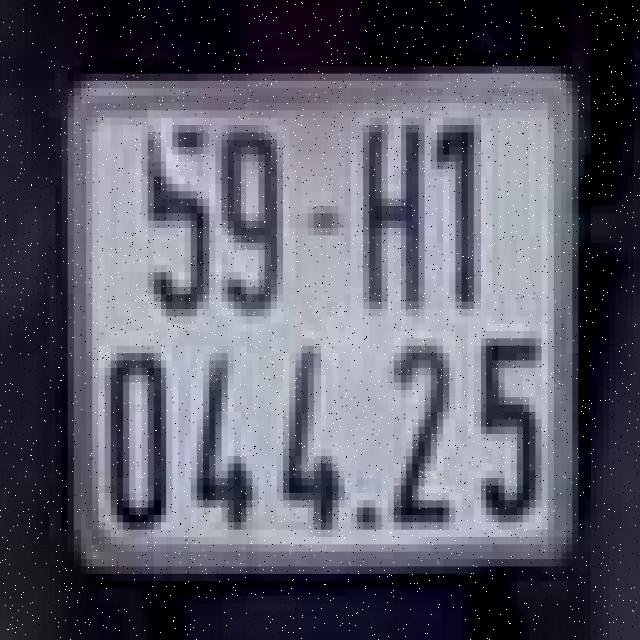0: (98, 342, 178, 541)
1: (440, 118, 489, 316)
2: (385, 342, 452, 533)
4: (190, 342, 264, 533), (277, 342, 345, 541)
5: (132, 118, 212, 331), (470, 335, 544, 526)
9: (216, 121, 290, 328)
H: (354, 114, 428, 320)
